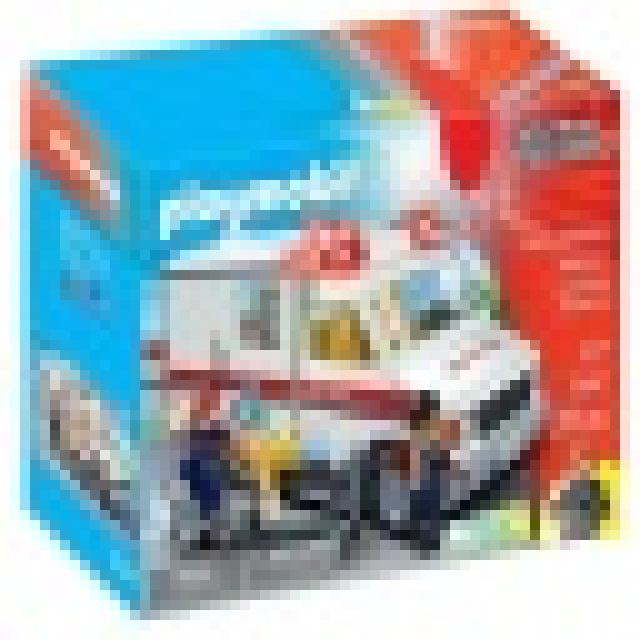Ambulance: (10, 0, 620, 610)
